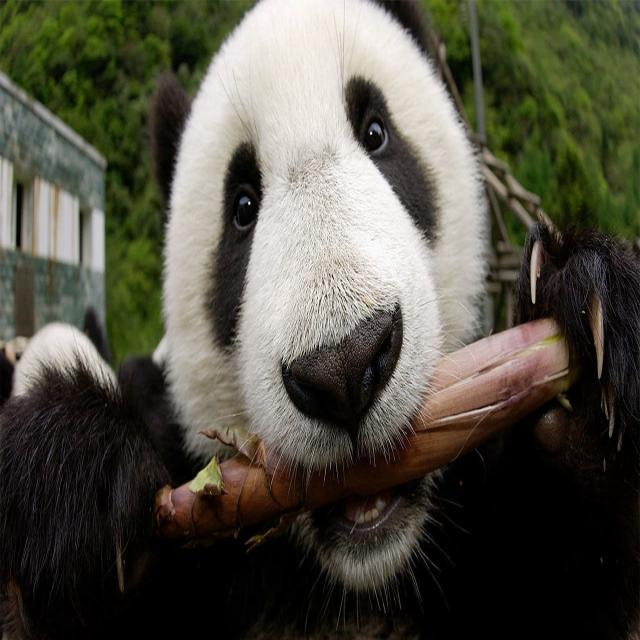Panda: (0, 4, 640, 640)
